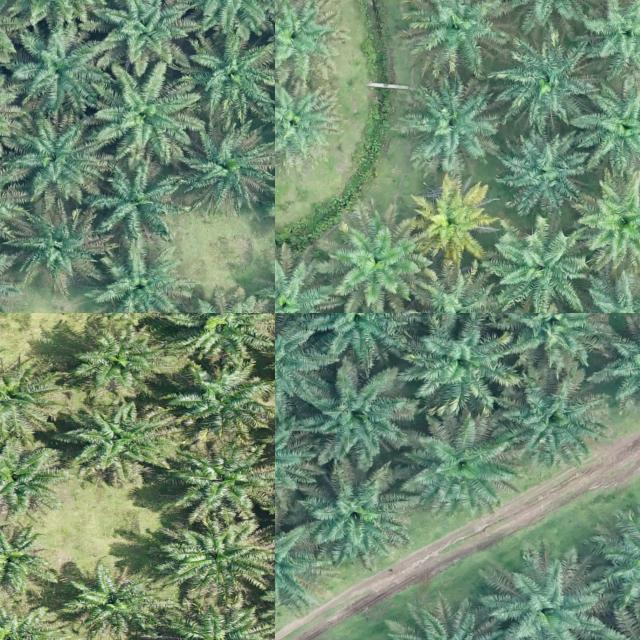Ganoderma: (423, 188, 485, 244)
